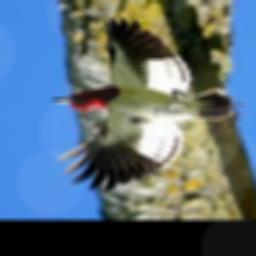Woodpecker: (50, 10, 241, 191)
